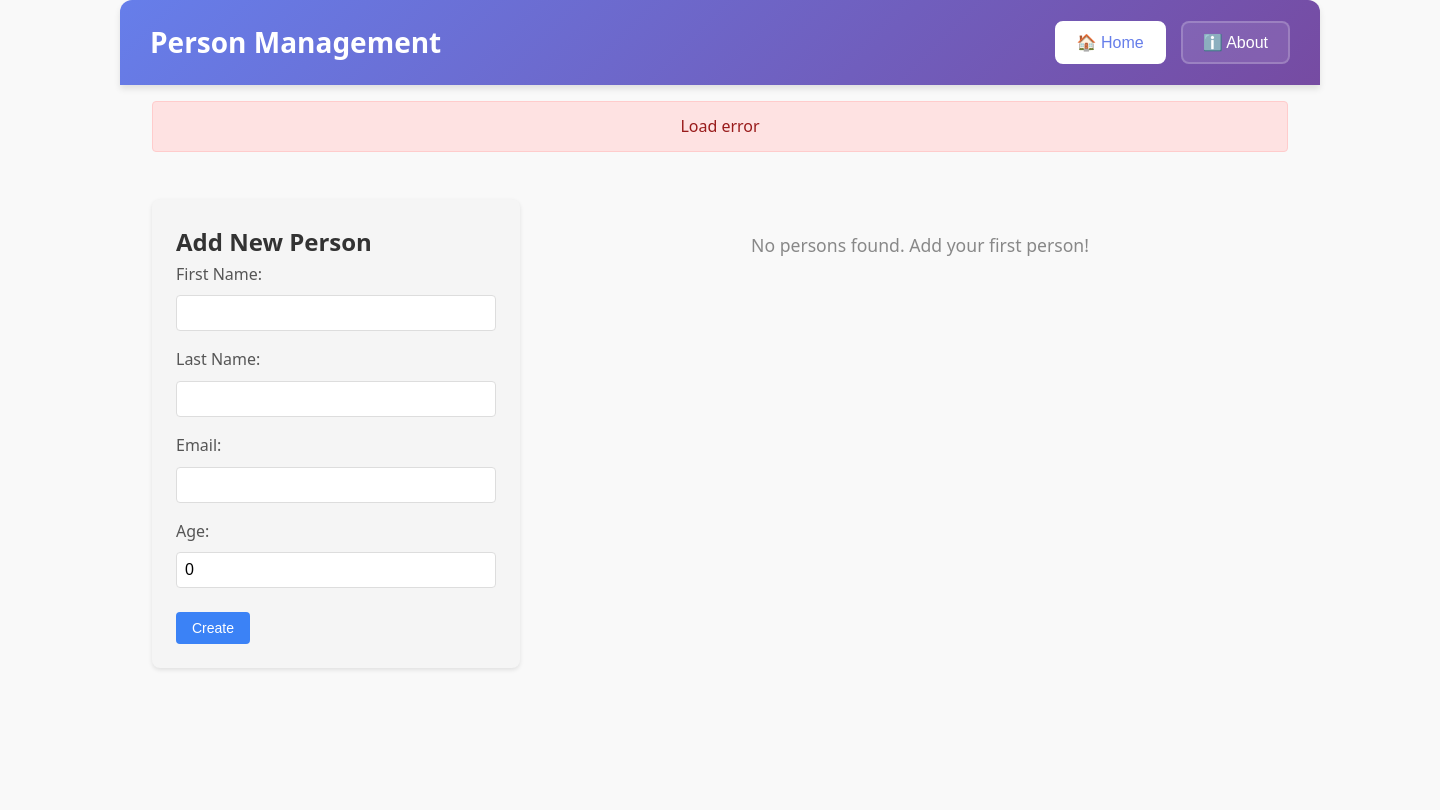
Test case: App › error handling › should clear error message after successful operation
The image size is (1440, 810).
Check: the text "Load error" is shown, box [152, 101, 1288, 152]
Type "John" into the field labelled "First Name:" at coordinates (336, 313), box [176, 295, 496, 331]
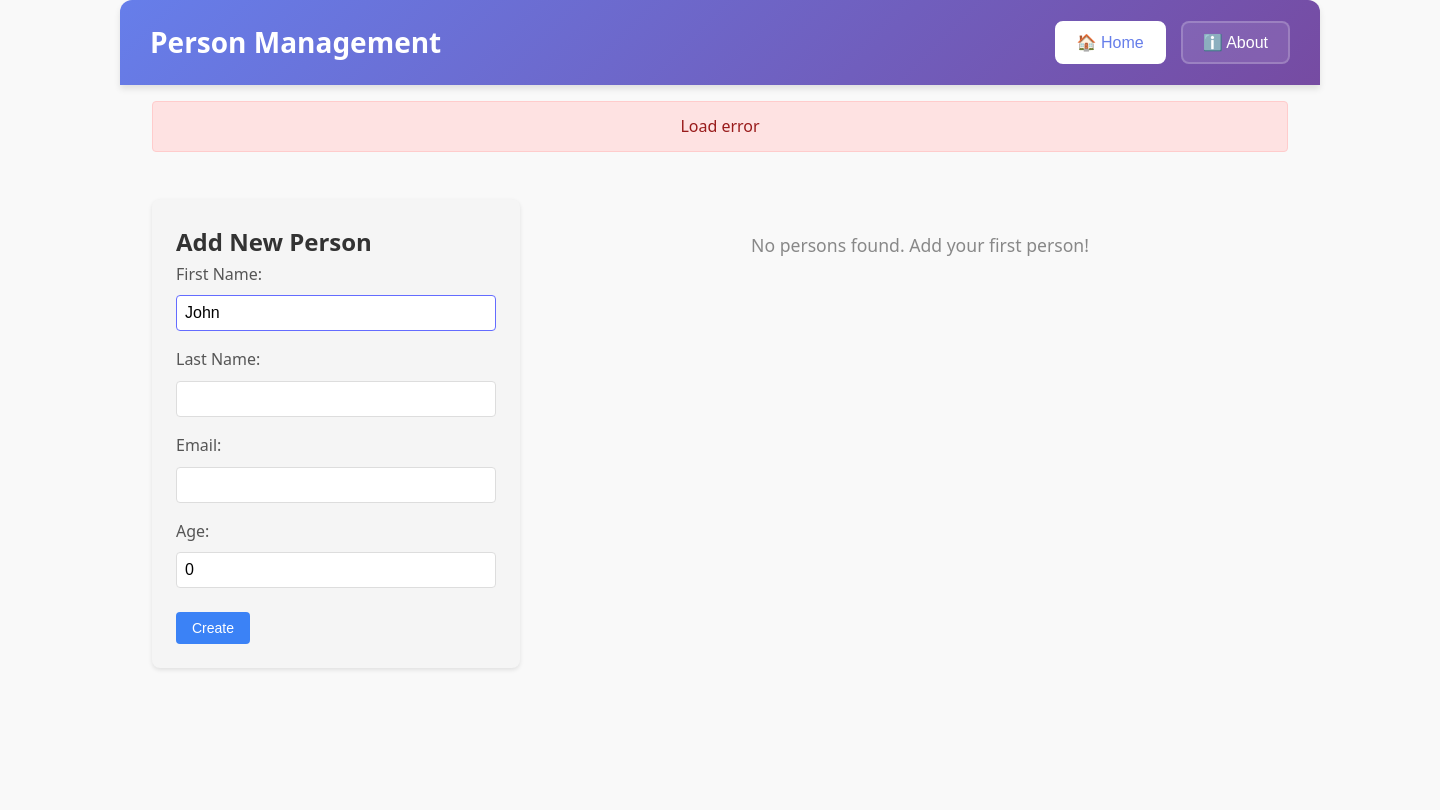
Type "Doe" into the field labelled "Last Name:" at coordinates (336, 399), box [176, 381, 496, 417]
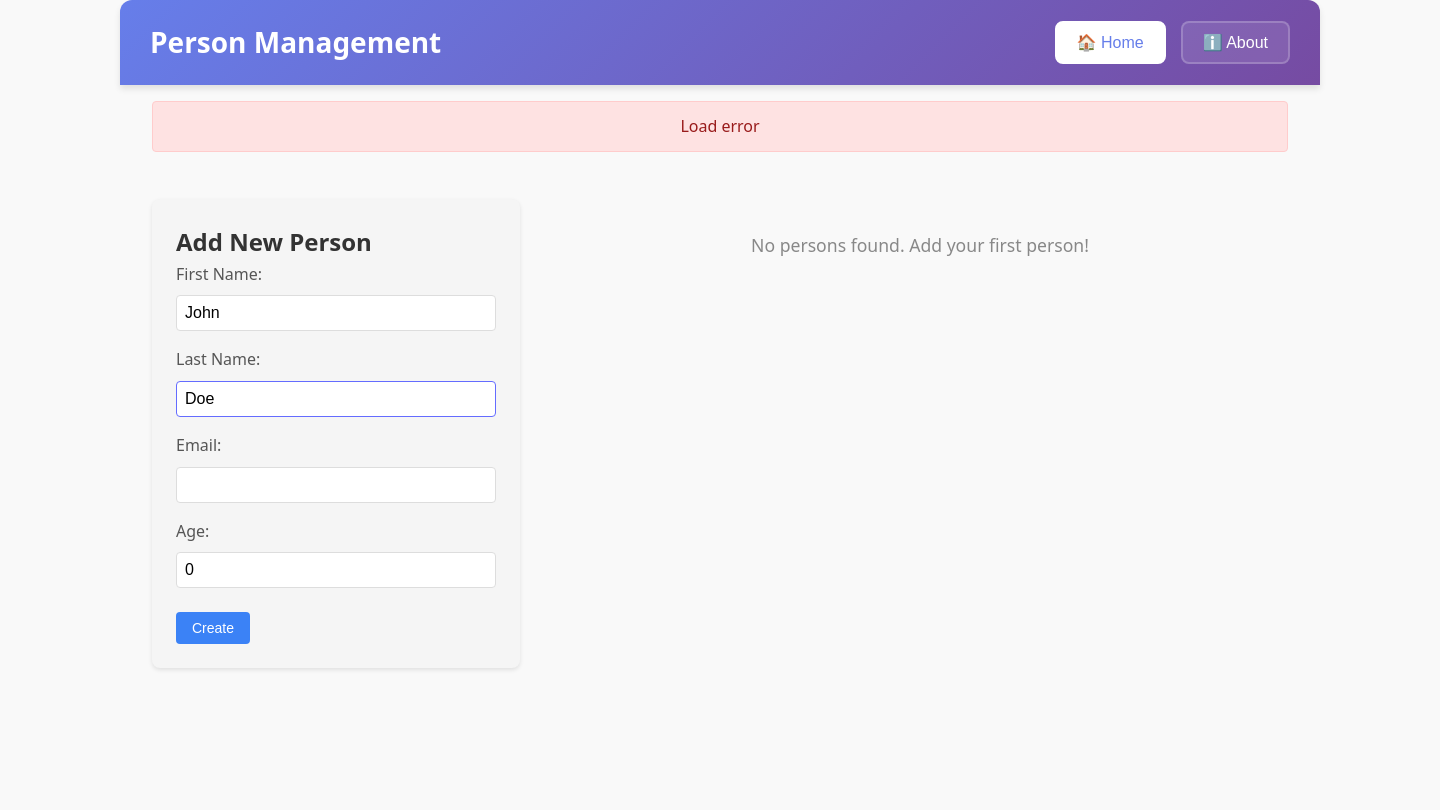
Type "john@test.com" into the field labelled "Email:" at coordinates (336, 485), box [176, 467, 496, 503]
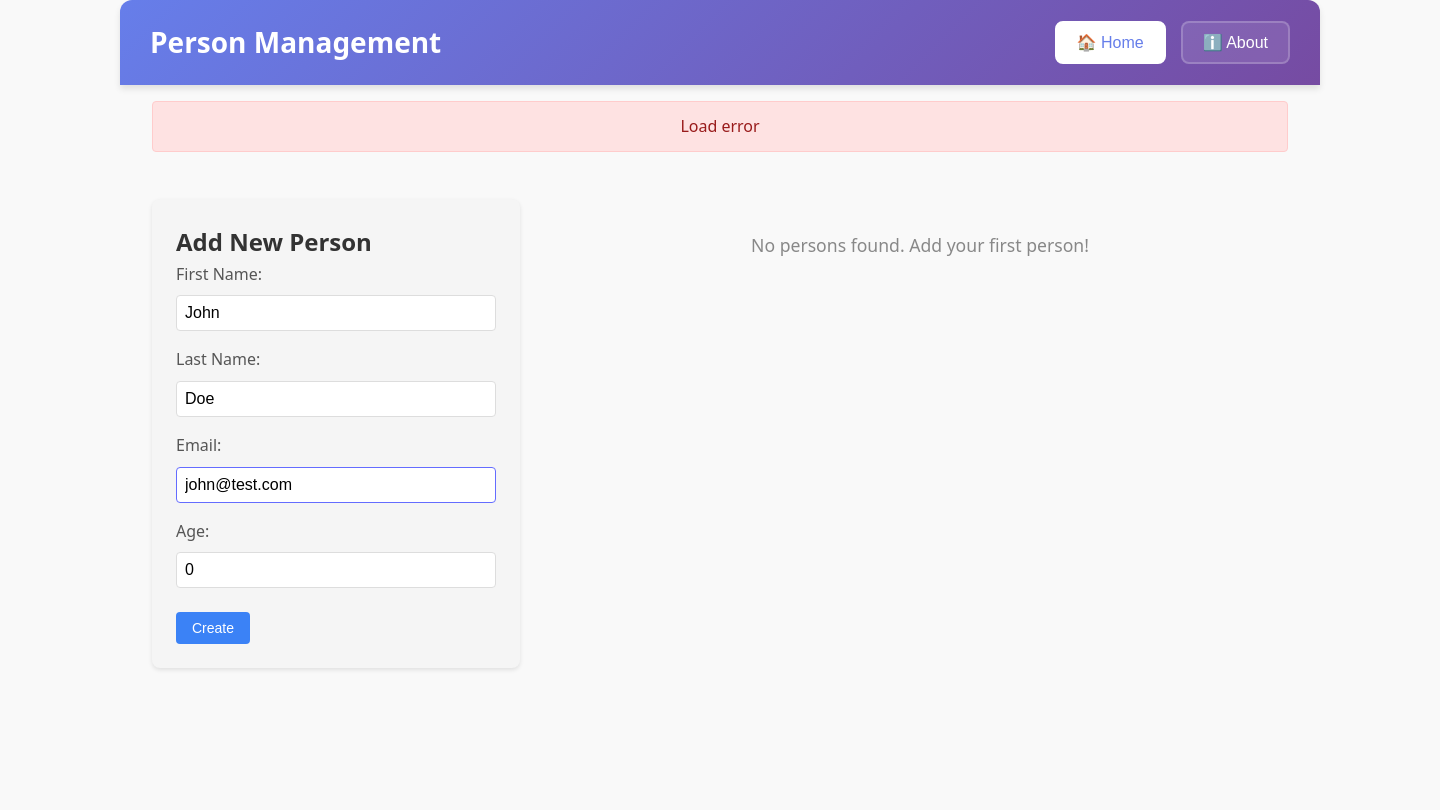
Click the button "Create" at coordinates (213, 628), box [176, 612, 250, 644]
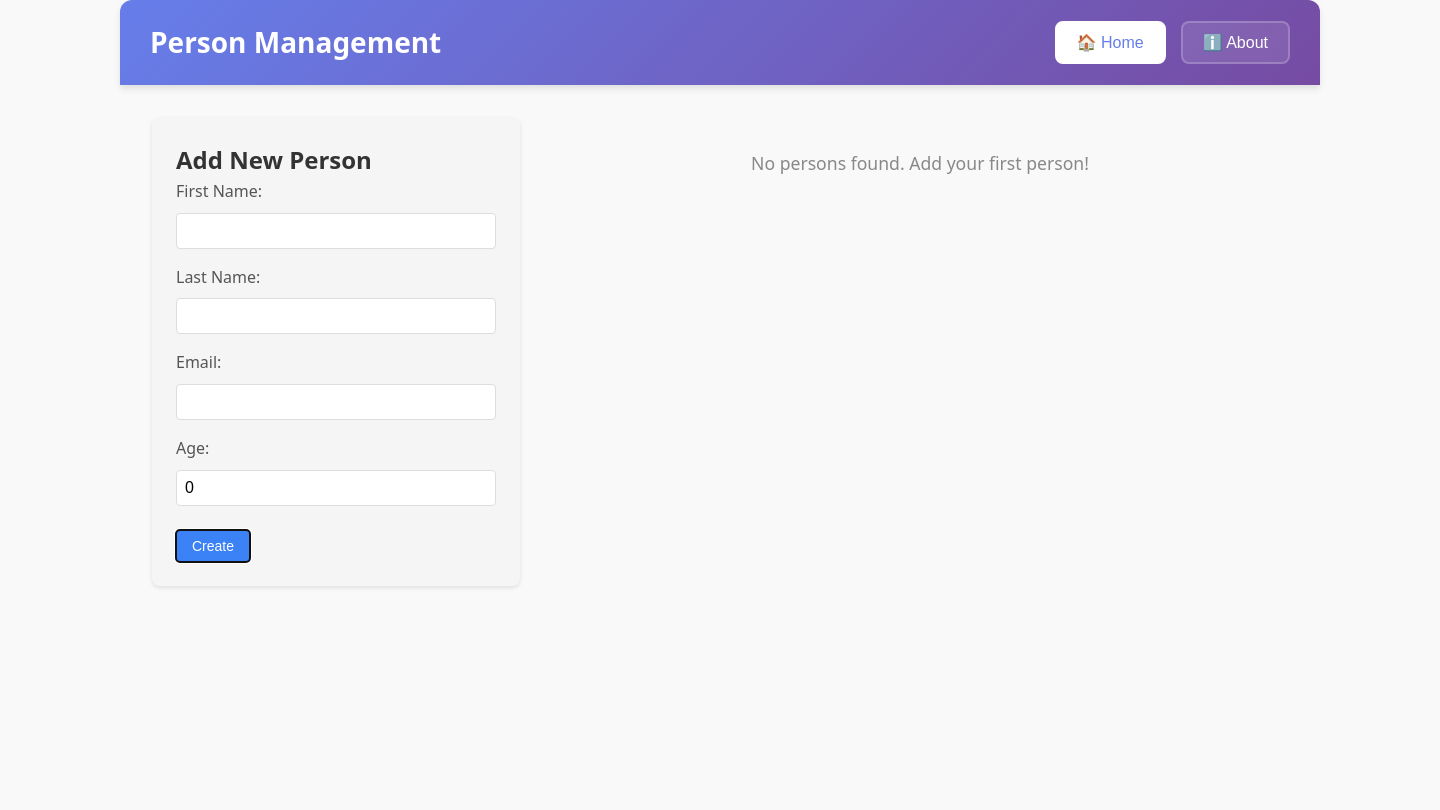
Check: the text "Load error" is gone
